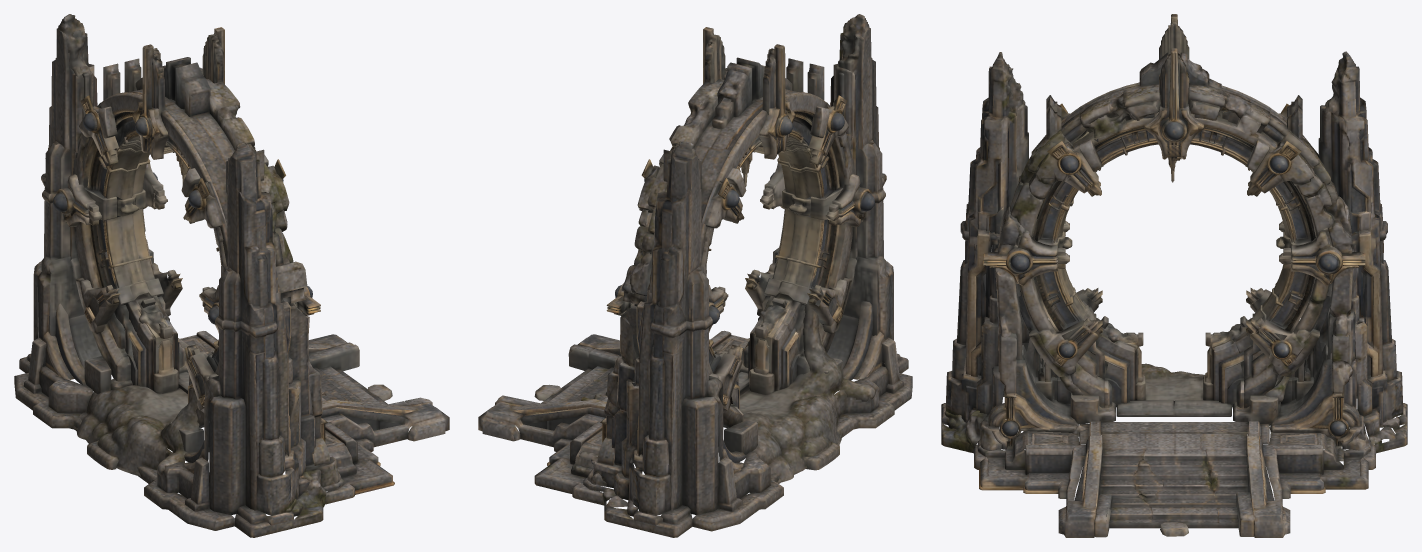
Rendered from monument_ancient_stargate.glb.
3 renders of one model, left to right at view 1: azimuth 30°, elevation 25°; view 2: azimuth 150°, elevation 25°; view 3: azimuth 270°, elevation 25°, orthographic.
Visible parts, largest first — view 1: tripo_71ed4b6e_73e5_4f26_8901_ffe9dbb5d730; view 2: tripo_71ed4b6e_73e5_4f26_8901_ffe9dbb5d730; view 3: tripo_71ed4b6e_73e5_4f26_8901_ffe9dbb5d730.
Boxes of the visible parts, x1,y1,x2,y2 form: tripo_71ed4b6e_73e5_4f26_8901_ffe9dbb5d730: (14, 14, 449, 537); tripo_71ed4b6e_73e5_4f26_8901_ffe9dbb5d730: (478, 14, 912, 537); tripo_71ed4b6e_73e5_4f26_8901_ffe9dbb5d730: (941, 14, 1407, 537).
Size of the model in its own units: 0.7349 by 0.9565 by 0.9995.
Materials: 1 (1 with a texture image).
